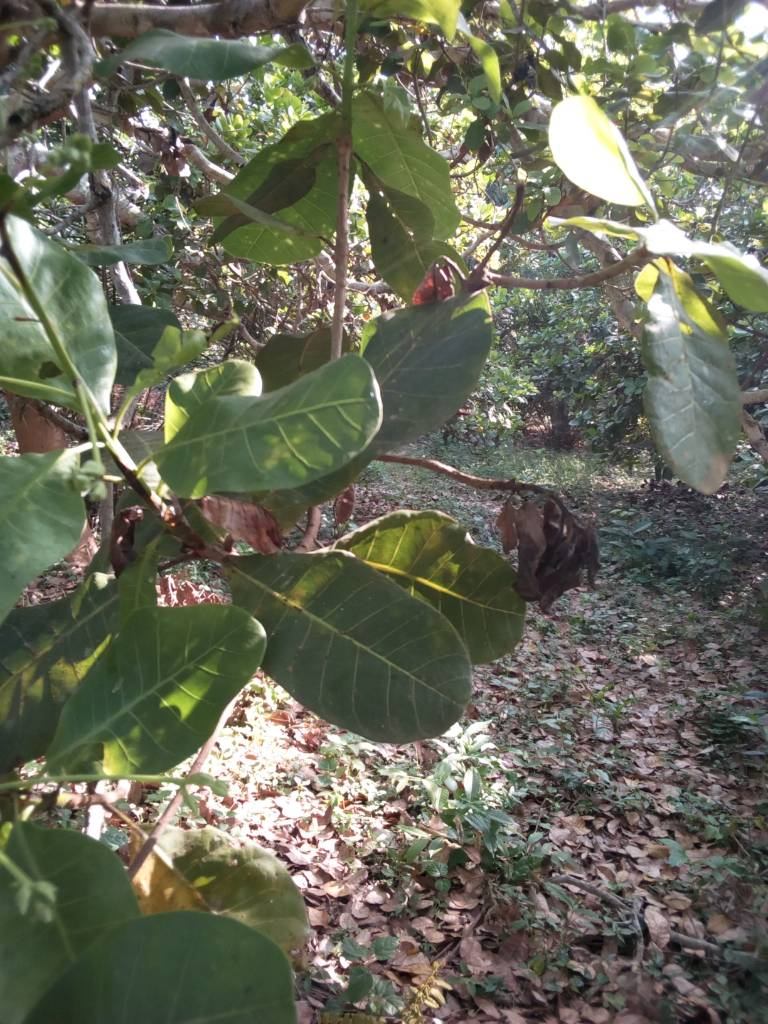Dessèchement des bourgeons: (504, 463, 604, 614)
